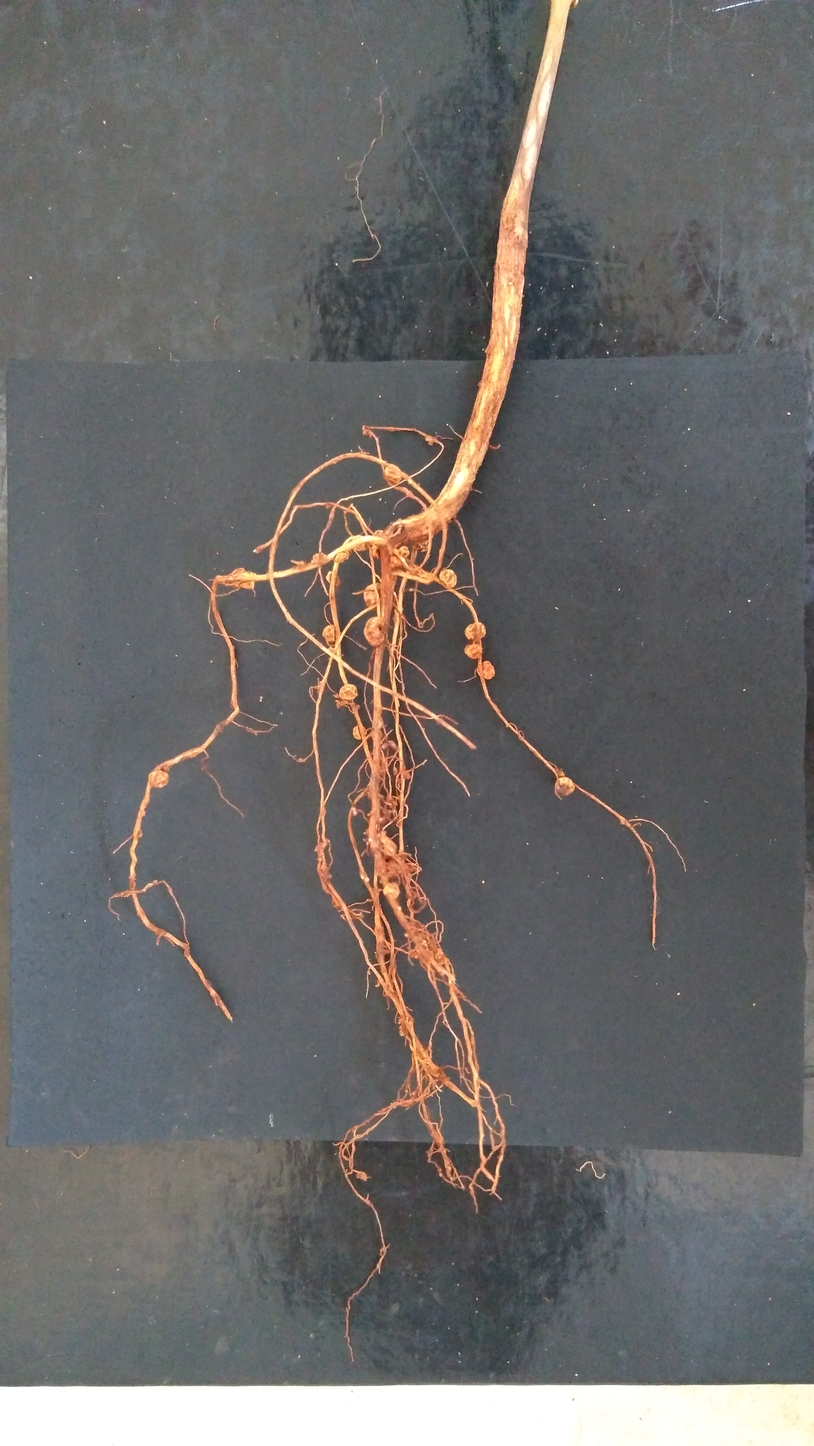nodule: (367, 830, 397, 859), (364, 617, 387, 647), (385, 859, 415, 880), (228, 568, 256, 589), (363, 582, 381, 611), (555, 777, 574, 797), (465, 622, 486, 640), (476, 661, 495, 680), (399, 1016, 415, 1038), (439, 569, 457, 588), (149, 770, 169, 787), (346, 535, 366, 551), (339, 684, 358, 700), (385, 465, 401, 484), (412, 940, 428, 958), (322, 625, 335, 647), (383, 883, 400, 899), (464, 644, 482, 659), (326, 571, 341, 586), (353, 725, 367, 740), (435, 948, 448, 964), (414, 540, 430, 552), (334, 552, 349, 564), (312, 553, 328, 564), (371, 544, 381, 559), (398, 546, 410, 558), (389, 556, 401, 568), (425, 435, 435, 446), (356, 1171, 367, 1181), (388, 740, 397, 749), (401, 771, 411, 779), (351, 807, 357, 816), (378, 817, 383, 823)
